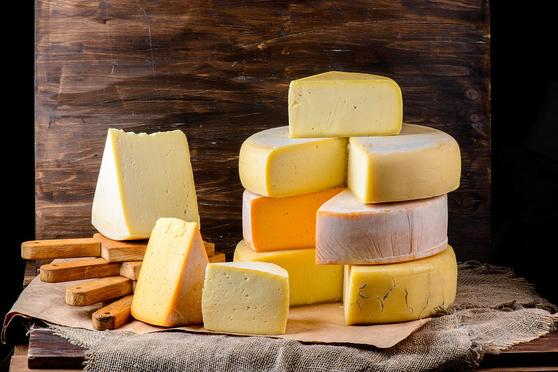cheese: (91, 126, 204, 240), (281, 71, 408, 136), (204, 260, 289, 334)
